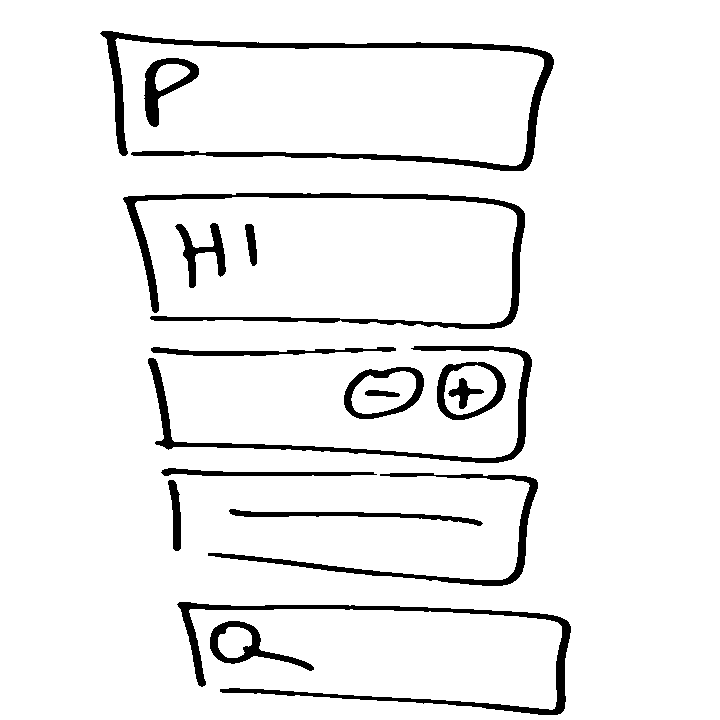button: (162, 461, 541, 595)
heading1: (121, 191, 529, 337)
inline stepper bar: (145, 341, 534, 465)
paragraph: (100, 29, 558, 179)
search bar: (177, 597, 577, 720)
